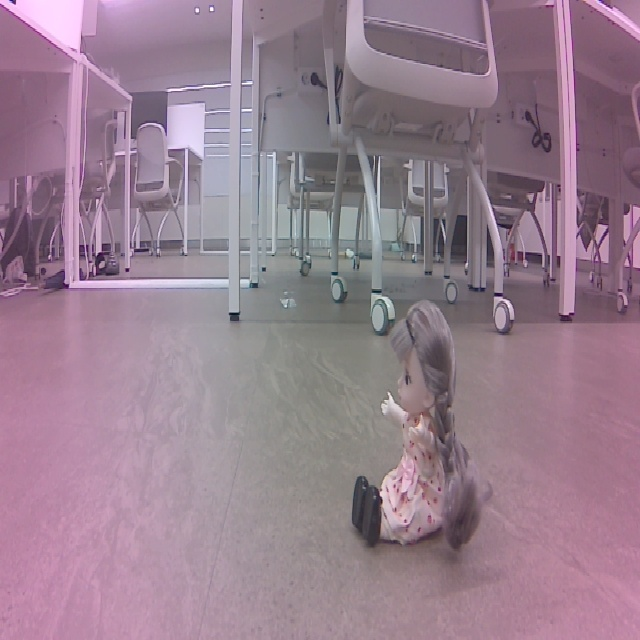장애물: (337, 294, 498, 572)
